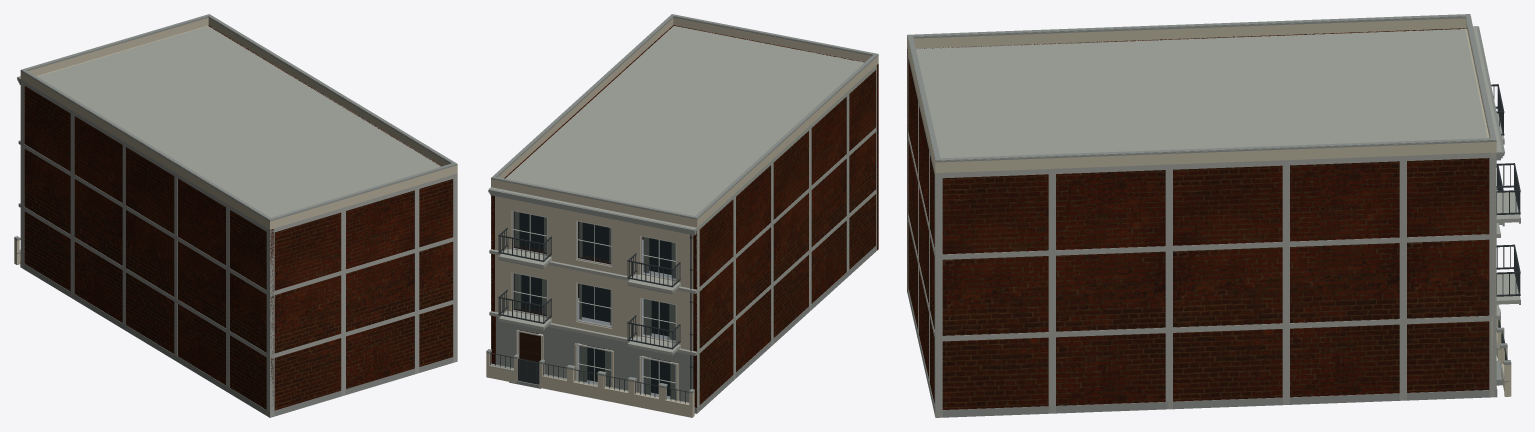
File: building.glb
The picture shows the model from 3 angles, left to right: view 1: azimuth 30°, elevation 25°; view 2: azimuth 150°, elevation 25°; view 3: azimuth 270°, elevation 25°; orthographic projection. The views are drawn at different scales.
Visible parts, largest first — view 1: main:0/edge0/z0/main:0/edge0/z0/wall_0_0/core0, roof/main:0/roof_slab#0001, main:0/edge1/z0/main:0/edge1/z0/wall_0_0/core0, roof/main:0/parapet#0001, roof/main:0/parapet_cap#0002, roof/main:0/parapet_cap#0001, main:0/edge0/z0/plinth#0001, main:0/edge0/z0/main:0/edge0/z0/beam_0_0/core0, main:0/edge0/z0/main:0/edge0/z0/beam_1_0/core0, main:0/edge0/z0/main:0/edge0/z0/beam_2_0/core0, main:0/edge1/z0/plinth#0001, main:0/edge1/z0/main:0/edge1/z0/beam_1_0/core0 (+2 smaller); view 2: roof/main:0/roof_slab#0001, main:0/edge0/z0/main:0/edge0/z0/wall_0_0/core0, main:0/edge3/z0/main:0/edge3/z0/wall_1_0/core0, roof/main:0/parapet#0001, roof/main:0/parapet_cap#0002, site/fence/0/boundary_base#0002, roof/main:0/parapet_cap#0001, main:0/edge2/z0/main:0/edge2/z0/wall_0_0, main:0/edge3/z0/main:0/edge3/z0/coating_0_0_0/clip9, main:0/edge3/z0/opening_u4.21_v6.43/glazing#0001, main:0/edge3/z0/opening_u4.21_v3.37/glazing#0001, main:0/edge3/z0/opening_u7.40_v6.31/glazing#0001 (+36 smaller); view 3: main:0/edge2/z0/main:0/edge2/z0/wall_0_0, roof/main:0/roof_slab#0001, roof/main:0/parapet#0001, main:0/edge1/z0/main:0/edge1/z0/wall_0_0/core0, roof/main:0/parapet_cap#0002, main:0/edge2/z0/plinth#0001, main:0/edge2/z0/main:0/edge2/z0/beam_1_0, main:0/edge2/z0/main:0/edge2/z0/beam_0_0, main:0/edge2/z0/main:0/edge2/z0/beam_2_0, roof/main:0/parapet_cap#0001, main:0/edge3/z0/proj_balcony_03/balcony_slab#0001, main:0/edge2/z0/main:0/edge2/z0/column_0_0 (+19 smaller).
Part boxes in pixels (<box>): main:0/edge0/z0/main:0/edge0/z0/wall_0_0/core0: <box>24,86,266,409</box>; roof/main:0/roof_slab#0001: <box>37,26,456,232</box>; main:0/edge1/z0/main:0/edge1/z0/wall_0_0/core0: <box>274,179,452,410</box>; roof/main:0/parapet#0001: <box>20,18,457,229</box>; roof/main:0/parapet_cap#0002: <box>21,14,456,220</box>; roof/main:0/parapet_cap#0001: <box>20,16,457,221</box>; main:0/edge0/z0/plinth#0001: <box>20,262,270,417</box>; main:0/edge0/z0/main:0/edge0/z0/beam_0_0/core0: <box>20,205,269,358</box>; main:0/edge0/z0/main:0/edge0/z0/beam_1_0/core0: <box>20,142,269,296</box>; main:0/edge0/z0/main:0/edge0/z0/beam_2_0/core0: <box>20,79,269,233</box>; main:0/edge1/z0/plinth#0001: <box>274,357,457,416</box>; main:0/edge1/z0/main:0/edge1/z0/beam_1_0/core0: <box>270,236,457,296</box>; roof/main:0/roof_slab#0001: <box>505,26,876,215</box>; main:0/edge0/z0/main:0/edge0/z0/wall_0_0/core0: <box>693,70,875,407</box>; main:0/edge3/z0/main:0/edge3/z0/wall_1_0/core0: <box>491,196,697,351</box>; roof/main:0/parapet#0001: <box>491,17,878,227</box>; roof/main:0/parapet_cap#0002: <box>491,14,877,218</box>; site/fence/0/boundary_base#0002: <box>539,375,693,417</box>; roof/main:0/parapet_cap#0001: <box>491,16,878,219</box>; main:0/edge2/z0/main:0/edge2/z0/wall_0_0: <box>491,25,673,364</box>; main:0/edge3/z0/main:0/edge3/z0/coating_0_0_0/clip9: <box>496,316,693,364</box>; main:0/edge3/z0/opening_u4.21_v6.43/glazing#0001: <box>578,221,611,264</box>; main:0/edge3/z0/opening_u4.21_v3.37/glazing#0001: <box>578,283,611,326</box>; main:0/edge3/z0/opening_u7.40_v6.31/glazing#0001: <box>642,237,675,279</box>; main:0/edge2/z0/main:0/edge2/z0/wall_0_0: <box>942,158,1489,409</box>; roof/main:0/roof_slab#0001: <box>916,28,1496,176</box>; roof/main:0/parapet#0001: <box>907,18,1496,173</box>; main:0/edge1/z0/main:0/edge1/z0/wall_0_0/core0: <box>908,58,934,403</box>; roof/main:0/parapet_cap#0002: <box>907,14,1495,160</box>; main:0/edge2/z0/plinth#0001: <box>935,390,1496,417</box>; main:0/edge2/z0/main:0/edge2/z0/beam_1_0: <box>935,234,1496,259</box>; main:0/edge2/z0/main:0/edge2/z0/beam_0_0: <box>935,315,1496,341</box>; main:0/edge2/z0/main:0/edge2/z0/beam_2_0: <box>935,152,1496,178</box>; roof/main:0/parapet_cap#0001: <box>907,14,1496,162</box>; main:0/edge3/z0/proj_balcony_03/balcony_slab#0001: <box>1496,192,1520,222</box>; main:0/edge2/z0/main:0/edge2/z0/column_0_0: <box>935,178,942,254</box>.
Bounding box in the file's own units: 11.88 × 9.79 × 20.9.
10 materials, 2 textured.
